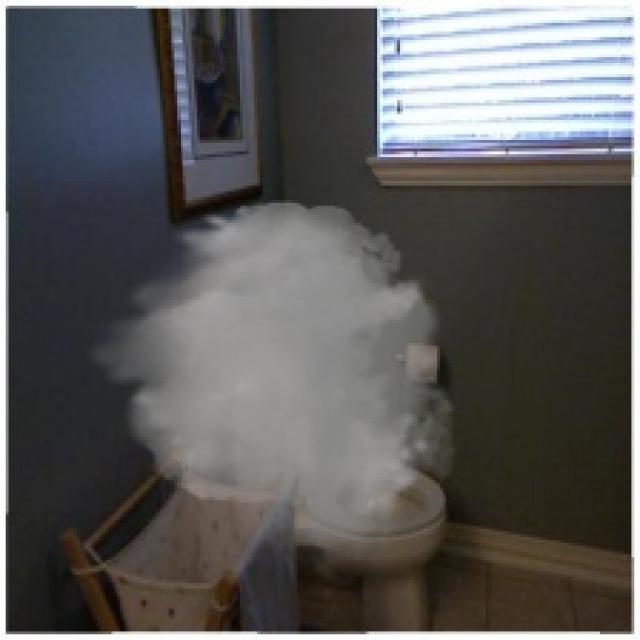Smoke: (80, 192, 472, 577)
